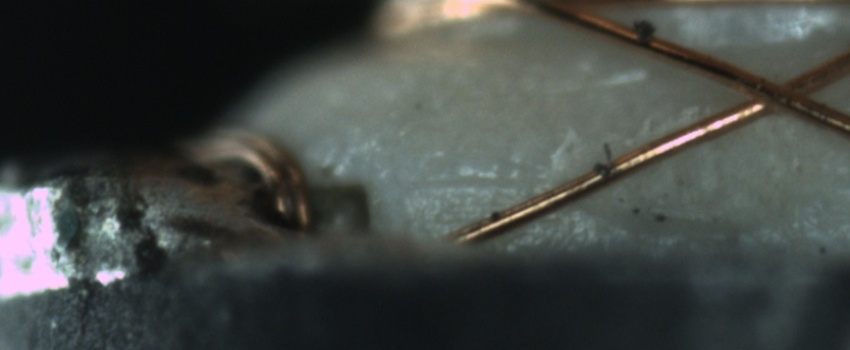CL: (715, 61, 835, 121)
DL: (404, 151, 548, 215)
TE: (182, 117, 328, 247)
